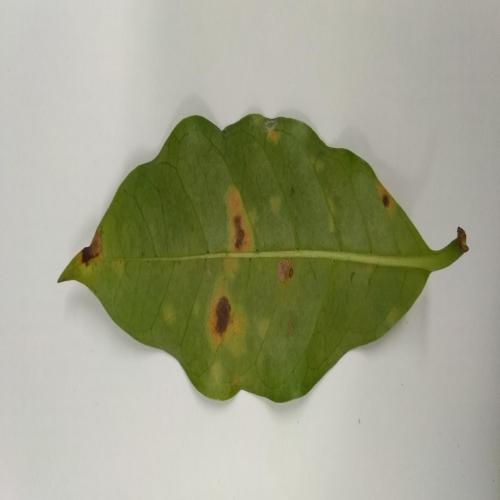phoma: (267, 127, 279, 142)
